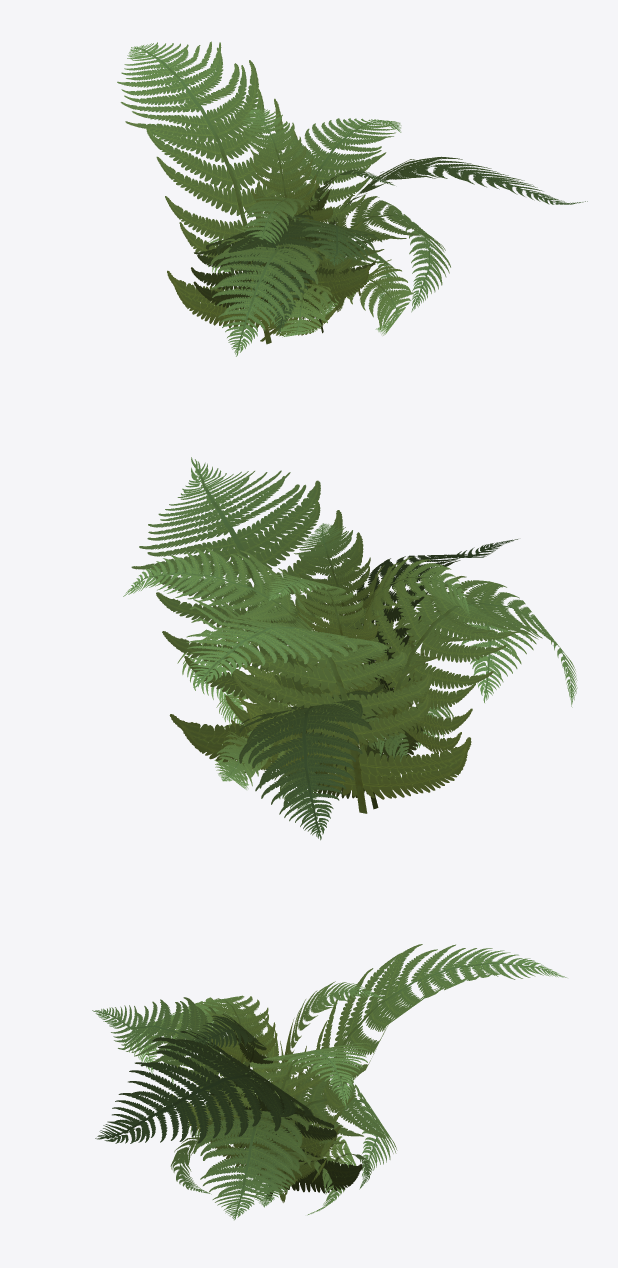
The model's file is kt_ti_medium_fern.fbx.
3 renders of one model, top to bottom at view 1: azimuth 30°, elevation 25°; view 2: azimuth 150°, elevation 25°; view 3: azimuth 270°, elevation 25°, orthographic. The views are drawn at different scales.
Visible parts, largest first — view 1: polySurface31; view 2: polySurface31; view 3: polySurface31.
Part boxes in pixels (x1,y1,x2,y2): polySurface31: [117, 41, 587, 356]; polySurface31: [123, 457, 577, 840]; polySurface31: [92, 944, 566, 1220].
Size of the model in its own units: 103 by 60.62 by 114.
